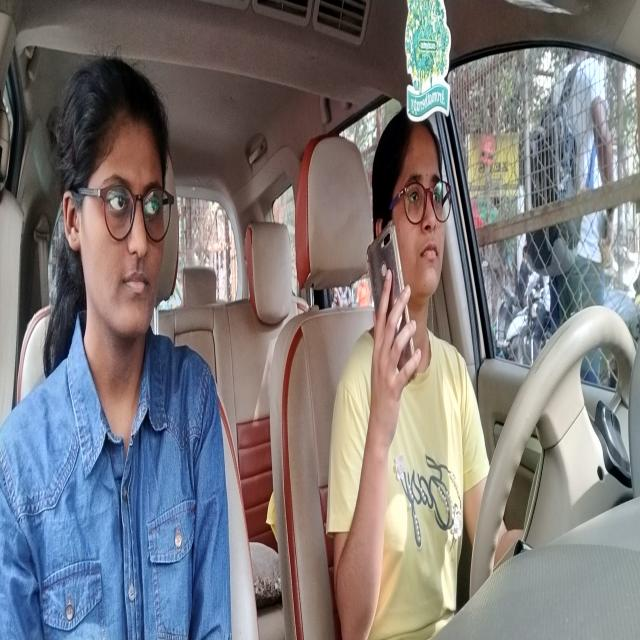mobile: (369, 232, 420, 364)
person: (70, 84, 169, 331), (376, 127, 446, 301)
